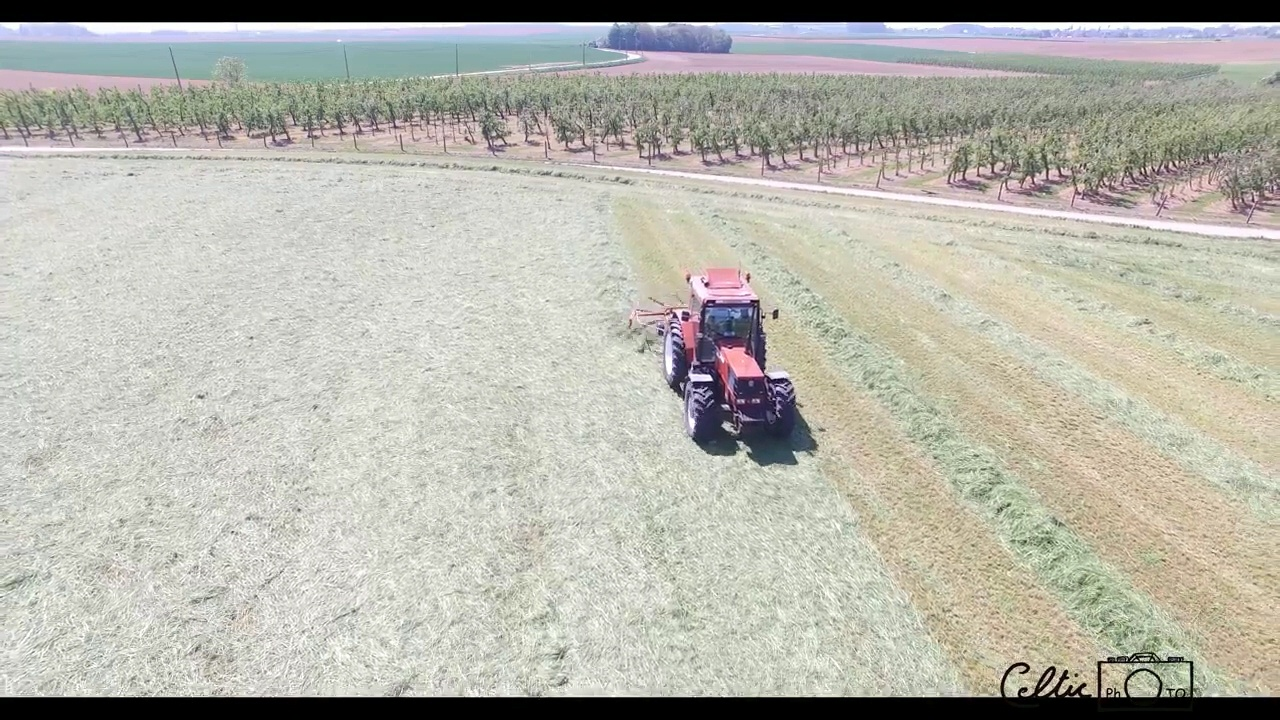traktor: (661, 263, 801, 443)
